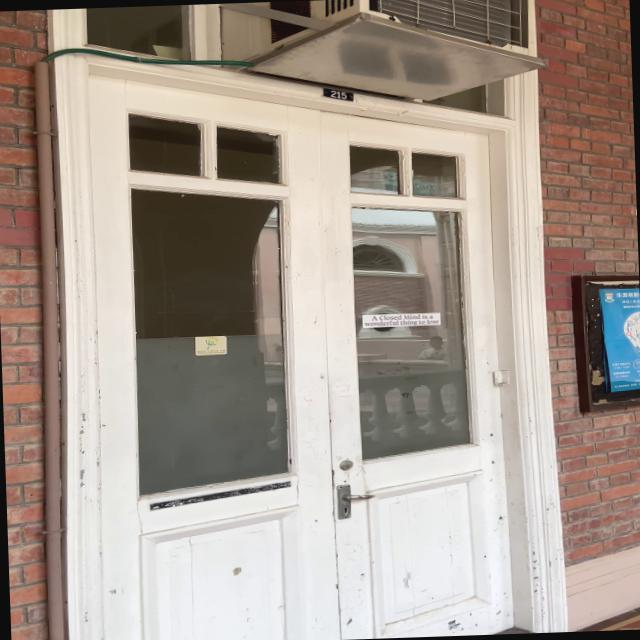room215: (322, 84, 354, 102)
